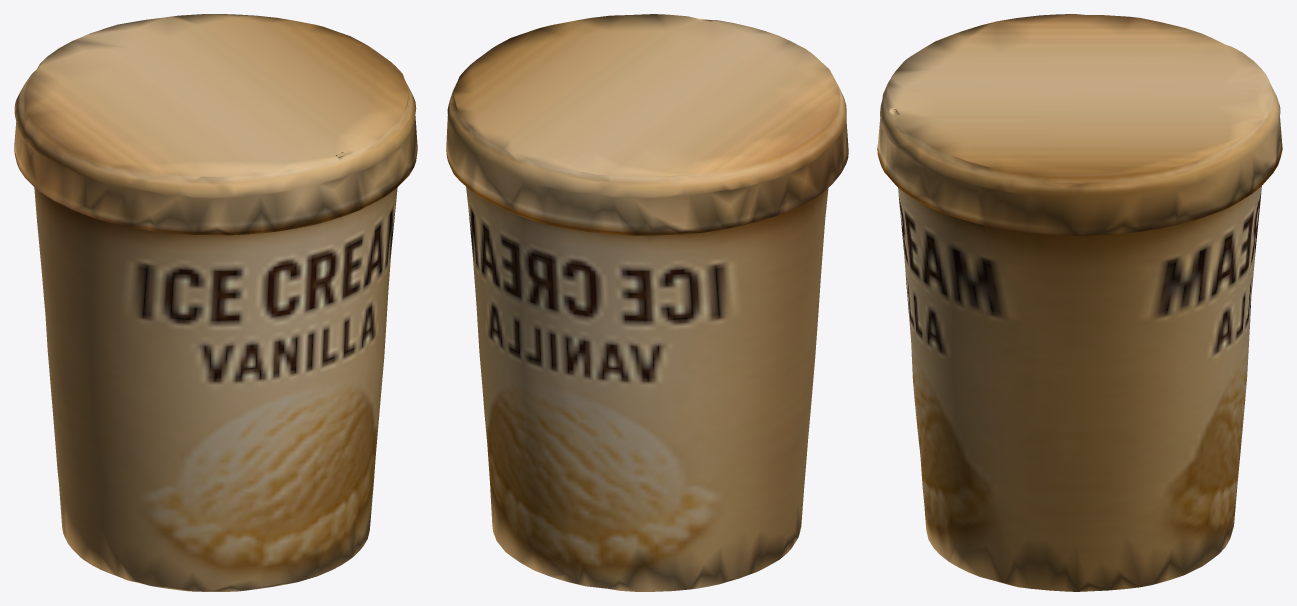
Rendered from PotGlaceVanille.fbx.
3 views of the same model, side by side, from view 1: azimuth 30°, elevation 25°; view 2: azimuth 150°, elevation 25°; view 3: azimuth 270°, elevation 25° (orthographic).
Parts seen in each view (by area): view 1: Mesh1.0; view 2: Mesh1.0; view 3: Mesh1.0.
Boxes of the visible parts, x1,y1,x2,y2 form: Mesh1.0: (14, 14, 417, 591); Mesh1.0: (446, 14, 848, 591); Mesh1.0: (877, 14, 1282, 591).
Bounding box in the file's own units: 170 × 201 × 170.
1 material, 1 textured.
